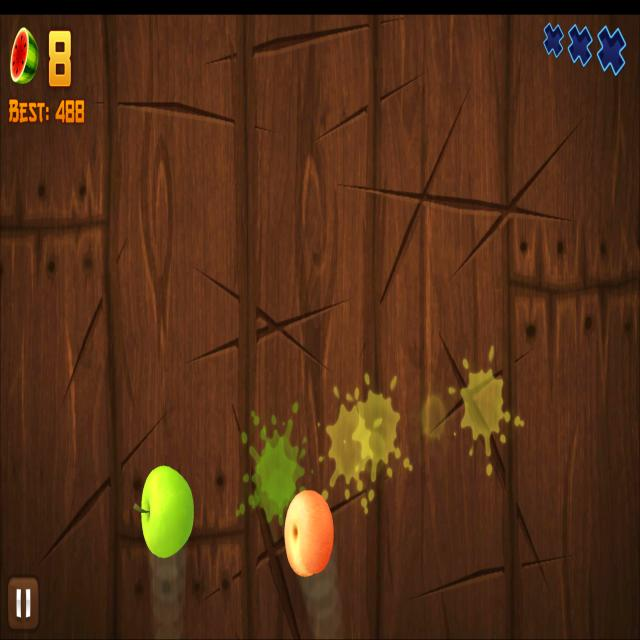fruit: (140, 463, 194, 559), (284, 488, 335, 579)
